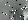person: (10, 9, 17, 20), (23, 9, 28, 20)
